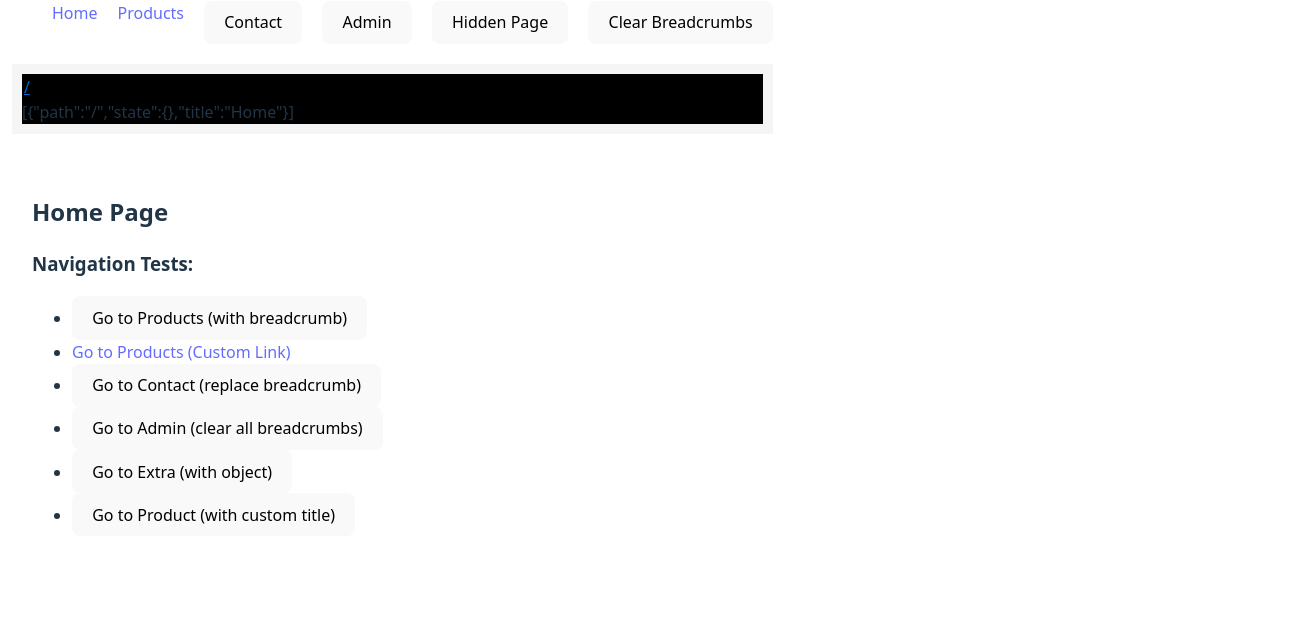
Test: #useBreadcrumbState() › Persist state when navigating back in stack
Click the button with test id "buttonLink-contact-replace": point(227, 385) [72,364,381,407]
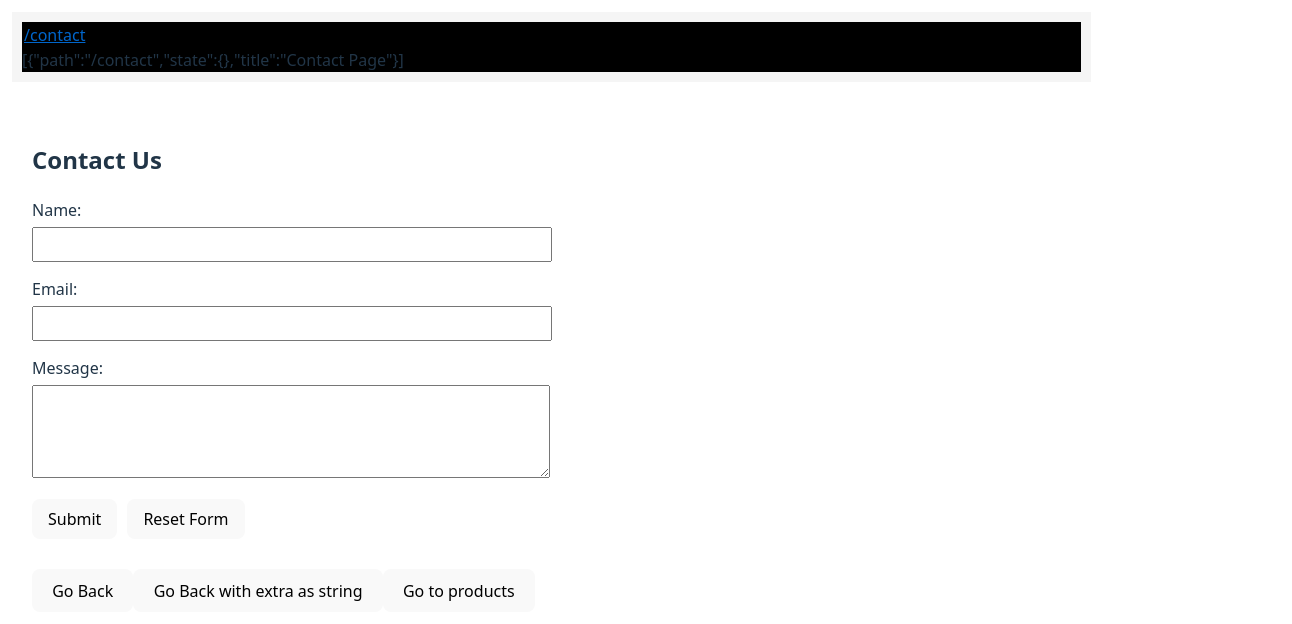
In the field with test id "name-input": point(292, 244) [32,227,552,262], type "John Doe"
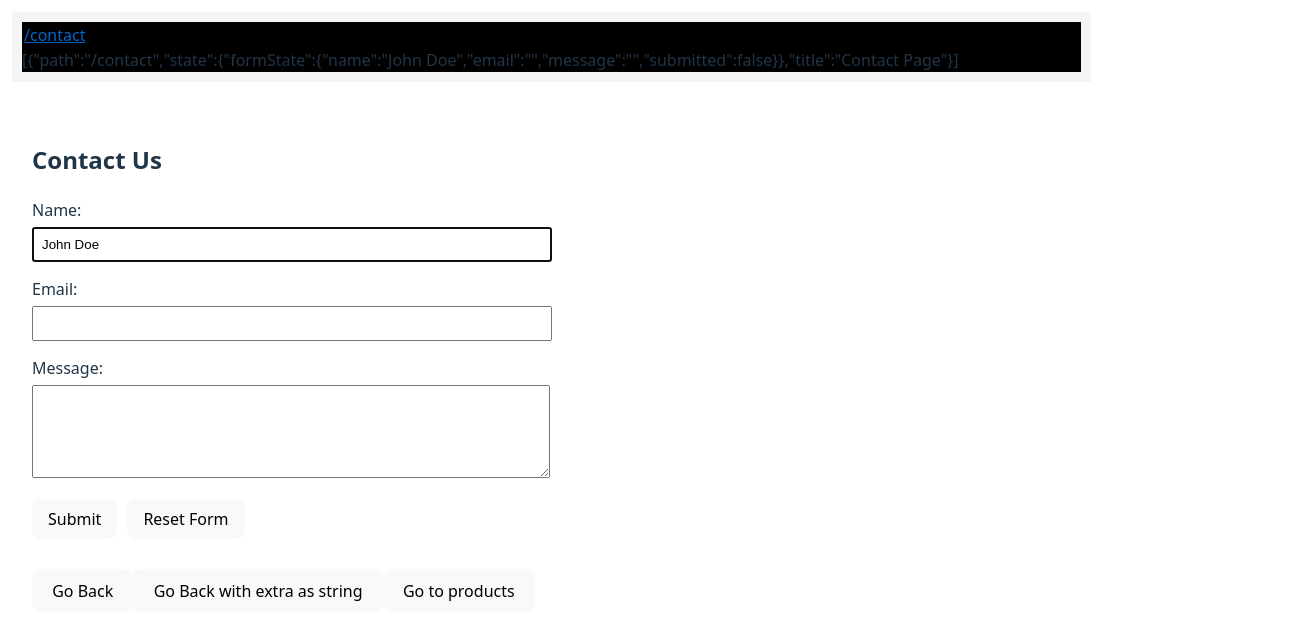
In the field with test id "email-input": point(292, 323) [32,306,552,341], type "email@gmail.com"
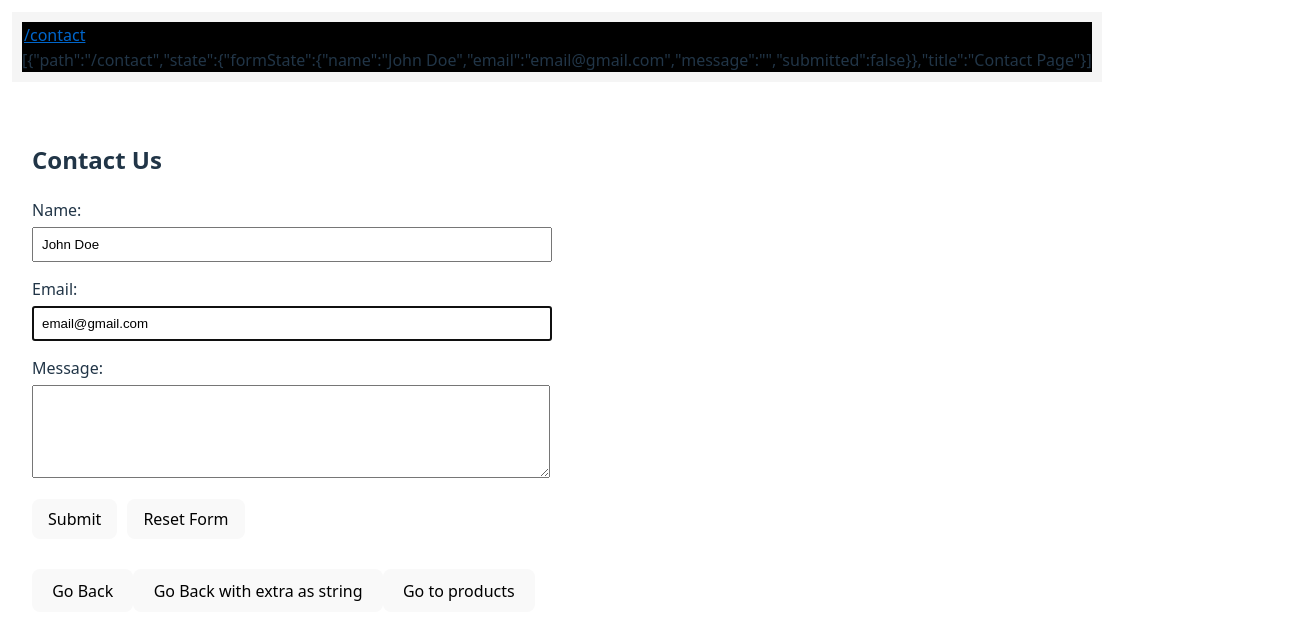
Click the button with test id "buttonLink-products": point(459, 590) [383,569,535,612]
(page scrolled)
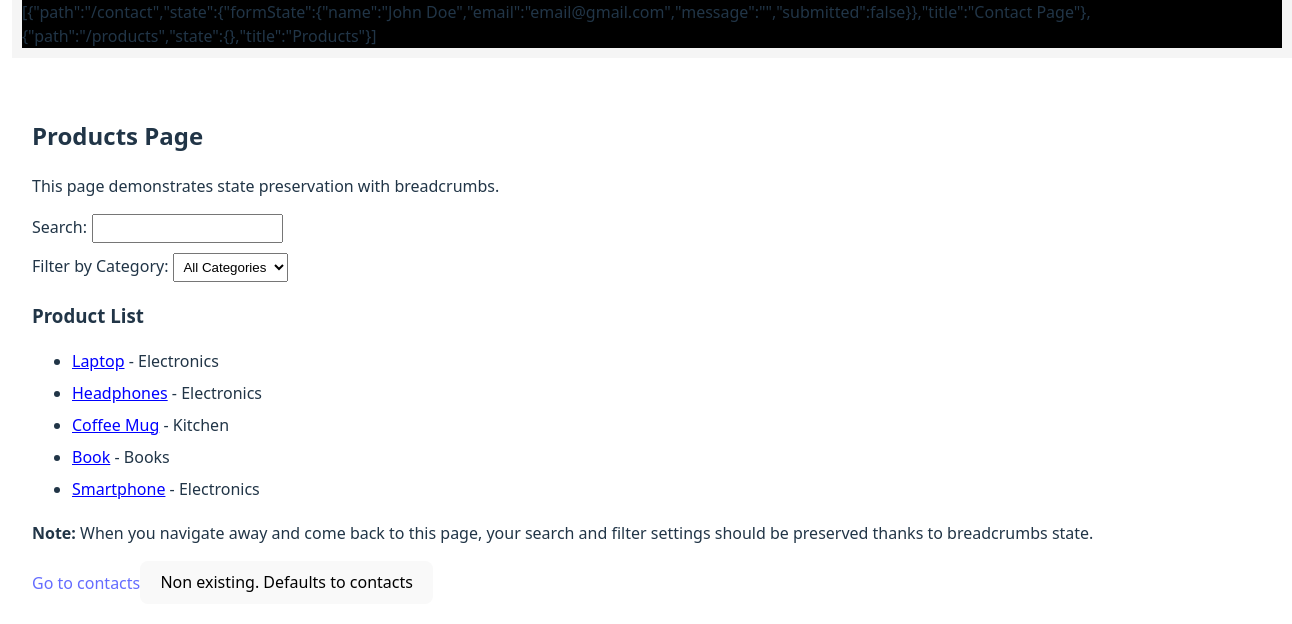
Click the link with test id "link-contacts-raw": point(86, 582) [32,571,140,593]
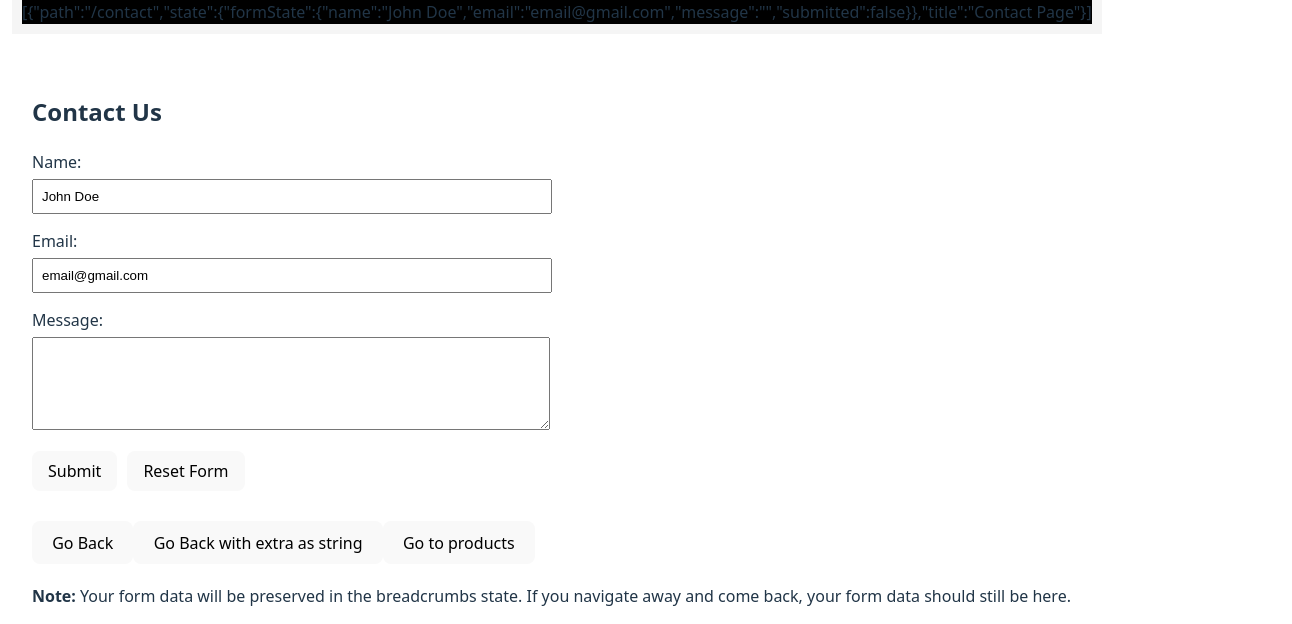
Expected: the field with test id "name-input" holds "John Doe", [32,179,552,214]
Expected: the field with test id "email-input" holds "email@gmail.com", [32,258,552,293]
